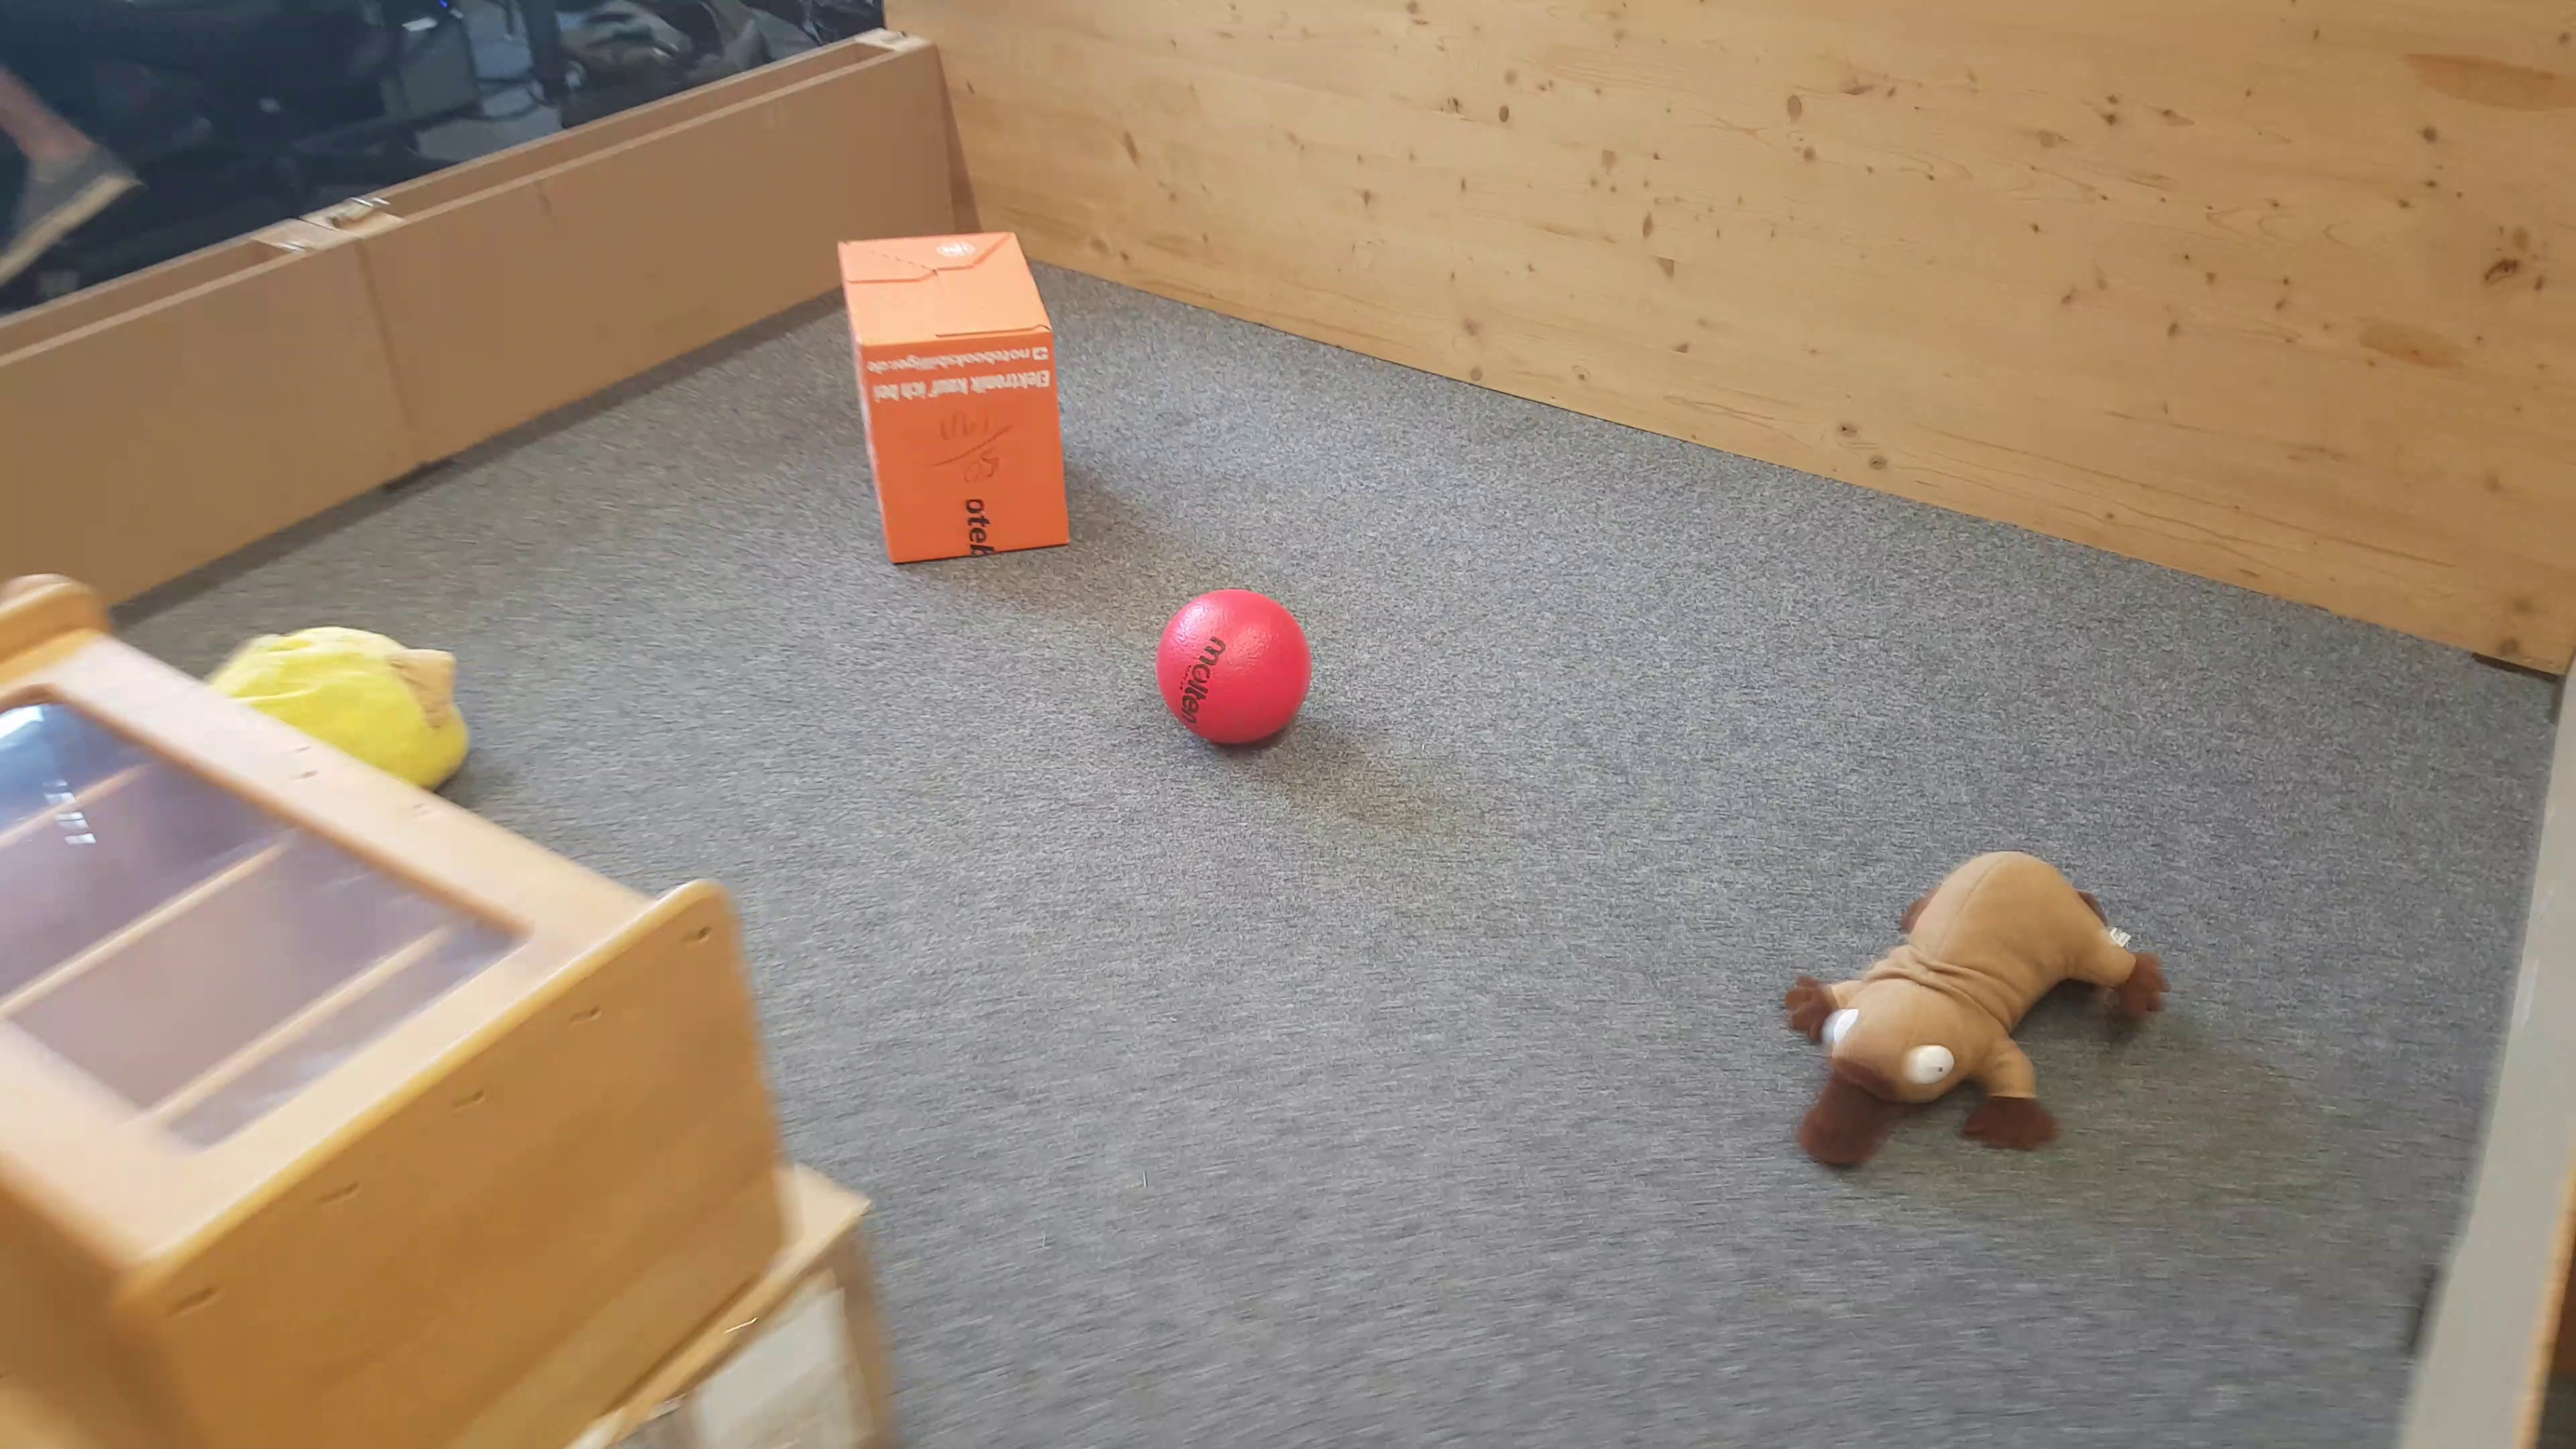grasp: (1780, 849, 2176, 1177)
kick: (1157, 586, 1311, 754)
push: (835, 226, 1079, 571)
